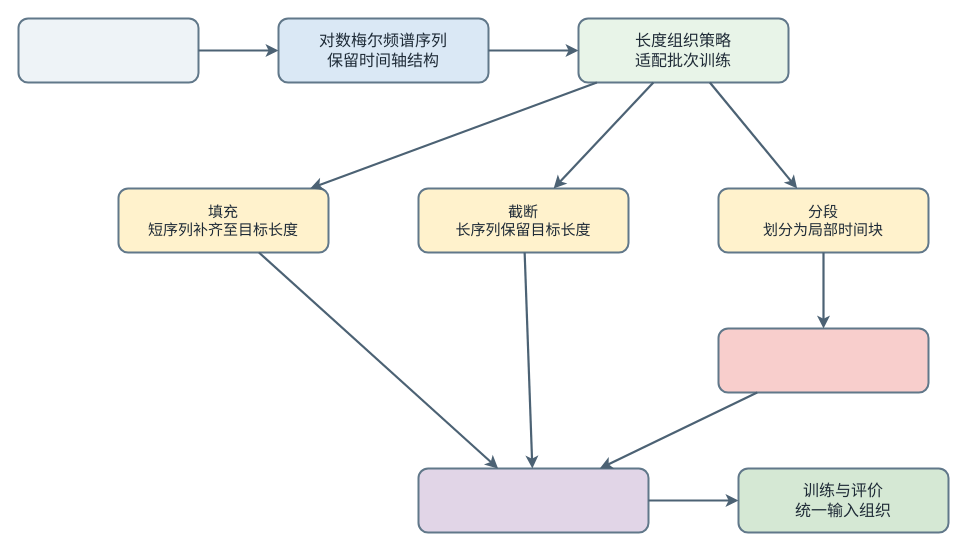
This 966x550 diagram has some shape labels left out. The shapes that lost their labels are listed below. From the top down, each one's centre as x and y in pixels, then its label:
At point 108,50: "变长语音样本 发话长度不一致".
At point 823,360: "分段结果聚合 形成发话级表示".
At point 533,500: "模型输入构造 固定尺寸或分段输入".
